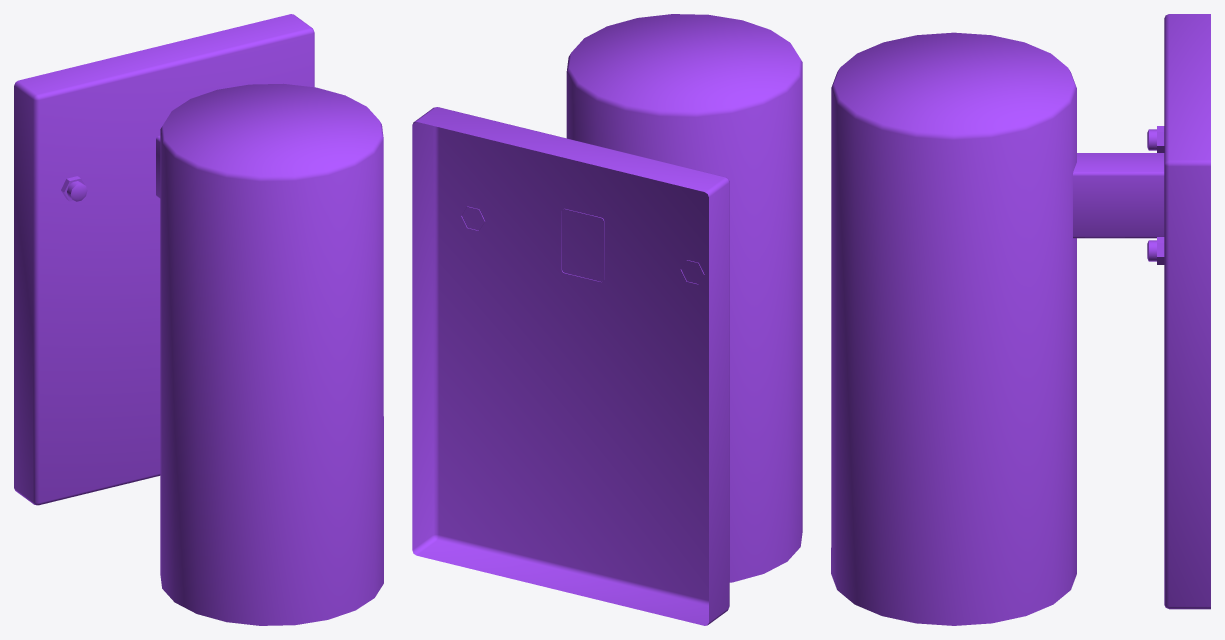
The model's file is LightWall04_1.FBX.
3 renders of one model, left to right at view 1: azimuth 30°, elevation 25°; view 2: azimuth 150°, elevation 25°; view 3: azimuth 270°, elevation 25°, orthographic. The views are drawn at different scales.
Parts seen in each view (by area): view 1: LightWall04_1; view 2: LightWall04_1; view 3: LightWall04_1.
Part boxes in pixels (x1,y1,x2,y2): LightWall04_1: (14,14,383,625); LightWall04_1: (412,14,802,625); LightWall04_1: (831,14,1210,625).
Size of the model in its own units: 13.1 by 20 by 14.02.
